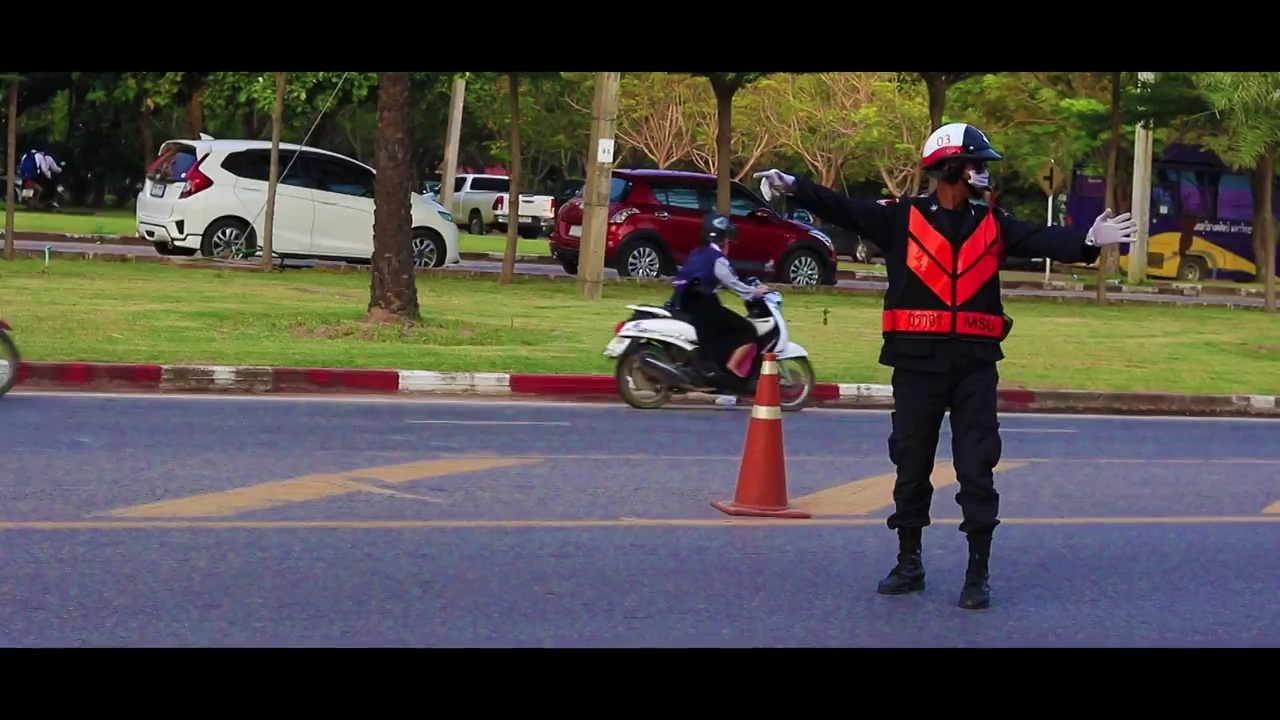helmet: (907, 107, 1014, 159), (709, 198, 739, 248)
